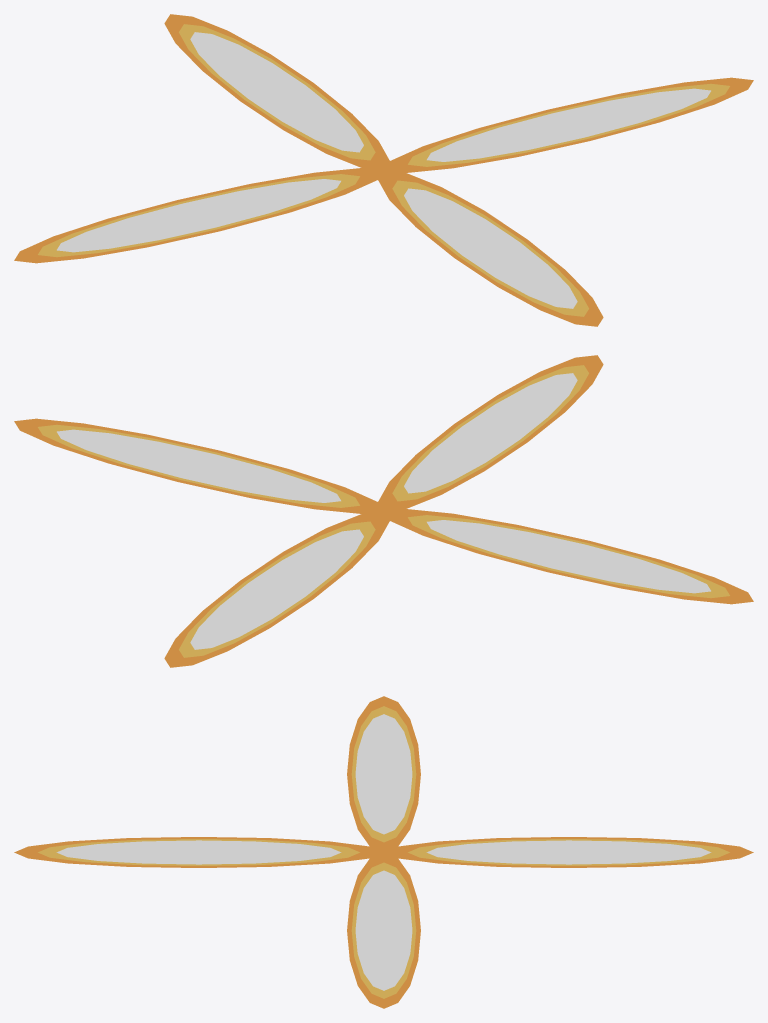
Rendered from weapon_muzzleFlash.glb.
The picture shows the model from 3 angles, top to bottom: view 1: azimuth 30°, elevation 25°; view 2: azimuth 150°, elevation 25°; view 3: azimuth 270°, elevation 25°; orthographic projection. The views are drawn at different scales.
Visible parts, largest first — view 1: Circle.001, Circle; view 2: Circle.001, Circle; view 3: Circle, Circle.001.
Part boxes in pixels (left/top/right/bottom): Circle.001: left=14, top=77, right=753, bottom=263; Circle: left=164, top=14, right=603, bottom=326; Circle.001: left=14, top=418, right=753, bottom=604; Circle: left=164, top=355, right=603, bottom=667; Circle: left=14, top=837, right=753, bottom=867; Circle.001: left=347, top=696, right=420, bottom=1008.
Bounding box in the file's own units: 8 × 4.77e-07 × 8.
